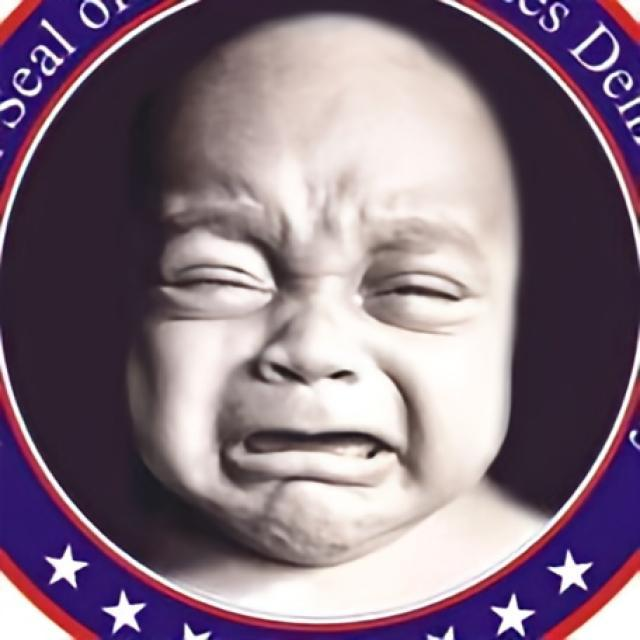sad: (129, 43, 517, 556)
